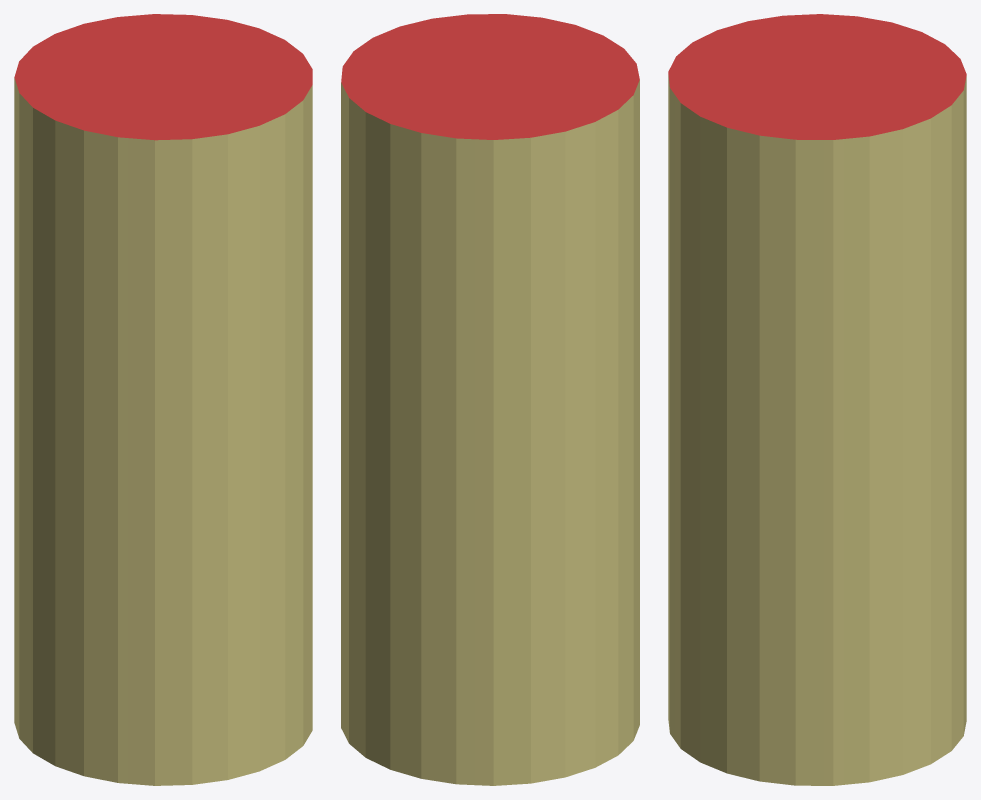
3 views of the same model, side by side, from view 1: azimuth 30°, elevation 25°; view 2: azimuth 150°, elevation 25°; view 3: azimuth 270°, elevation 25° (orthographic).
Bounding box in the file's own units: 3.04 × 3.05 × 7.27.
